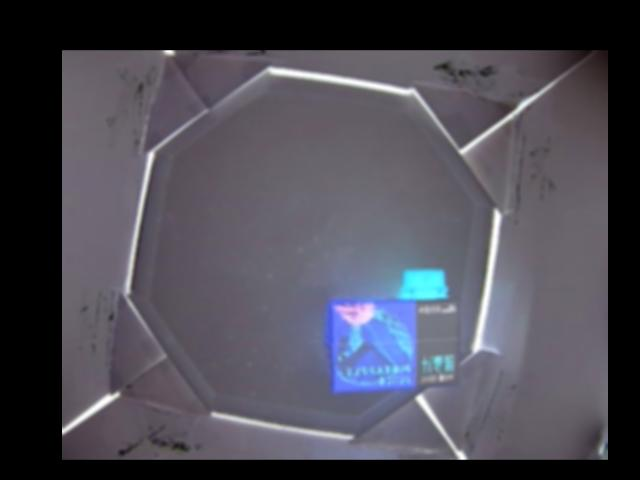Bottle: (327, 267, 460, 388)
